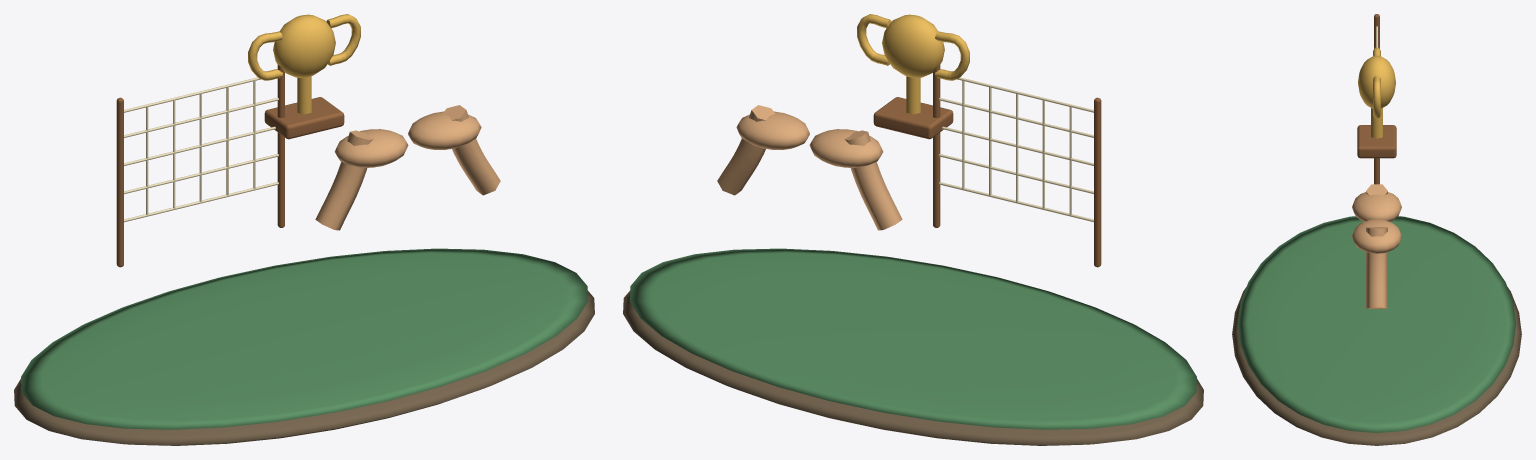
The model's file is complete-second-caught-received.glb.
3 views of the same model, side by side, from view 1: azimuth 30°, elevation 25°; view 2: azimuth 150°, elevation 25°; view 3: azimuth 270°, elevation 25° (orthographic). The views are drawn at different scales.
Visible parts, largest first — view 1: complete-second-caught-received_surface_01, complete-second-caught-received_surface_00, complete-second-caught-received_surface_04, complete-second-caught-received_surface_05, complete-second-caught-received_surface_02, complete-second-caught-received_surface_03; view 2: complete-second-caught-received_surface_01, complete-second-caught-received_surface_00, complete-second-caught-received_surface_04, complete-second-caught-received_surface_05, complete-second-caught-received_surface_02, complete-second-caught-received_surface_03; view 3: complete-second-caught-received_surface_01, complete-second-caught-received_surface_00, complete-second-caught-received_surface_04, complete-second-caught-received_surface_05, complete-second-caught-received_surface_02.
Part boxes in pixels (x1=…): complete-second-caught-received_surface_01: x1=21, y1=248, x2=587, y2=429; complete-second-caught-received_surface_00: x1=14, y1=290, x2=594, y2=445; complete-second-caught-received_surface_04: x1=315, y1=105, x2=500, y2=230; complete-second-caught-received_surface_05: x1=248, y1=14, x2=360, y2=114; complete-second-caught-received_surface_02: x1=116, y1=65, x2=344, y2=267; complete-second-caught-received_surface_03: x1=124, y1=77, x2=278, y2=222; complete-second-caught-received_surface_01: x1=630, y1=248, x2=1196, y2=429; complete-second-caught-received_surface_00: x1=623, y1=290, x2=1203, y2=445; complete-second-caught-received_surface_04: x1=717, y1=105, x2=902, y2=230; complete-second-caught-received_surface_05: x1=857, y1=14, x2=969, y2=114; complete-second-caught-received_surface_02: x1=873, y1=65, x2=1101, y2=267; complete-second-caught-received_surface_03: x1=939, y1=77, x2=1093, y2=222; complete-second-caught-received_surface_01: x1=1238, y1=216, x2=1515, y2=432; complete-second-caught-received_surface_00: x1=1232, y1=287, x2=1521, y2=445; complete-second-caught-received_surface_04: x1=1352, y1=184, x2=1401, y2=308; complete-second-caught-received_surface_05: x1=1358, y1=47, x2=1395, y2=138; complete-second-caught-received_surface_02: x1=1357, y1=14, x2=1396, y2=184.
Size of the model in its own units: 4.56 by 2.76 by 2.5.
